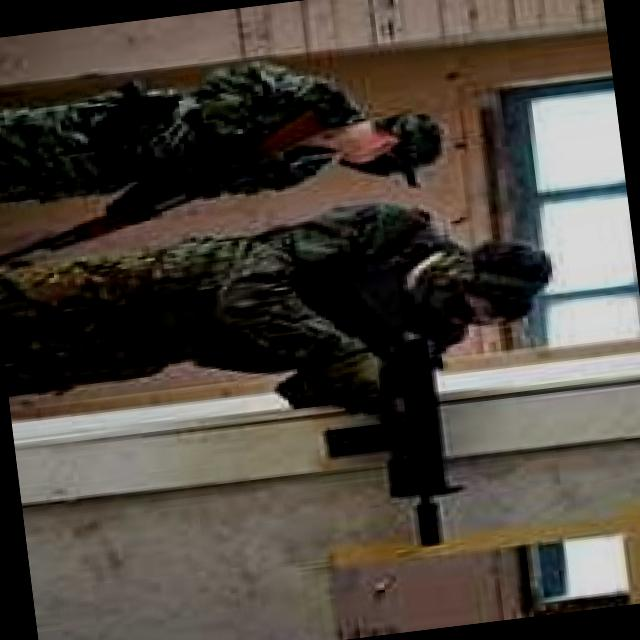long weapon: (0, 113, 352, 283), (334, 248, 464, 582)
